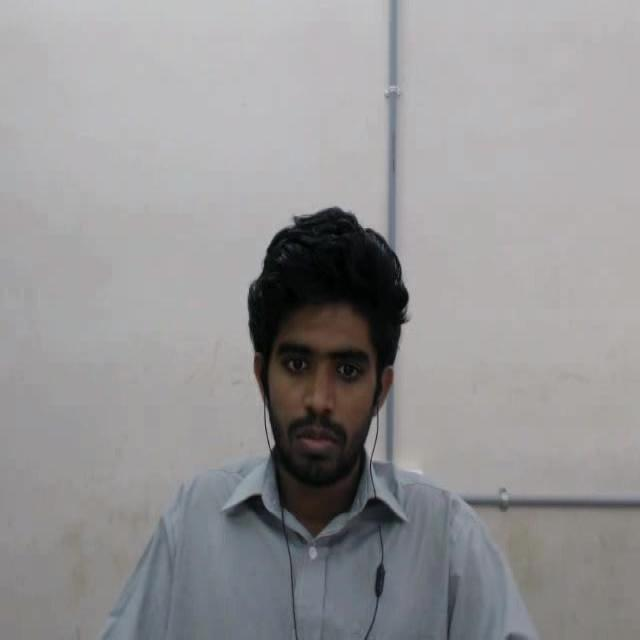Engaged: (209, 197, 441, 521)
